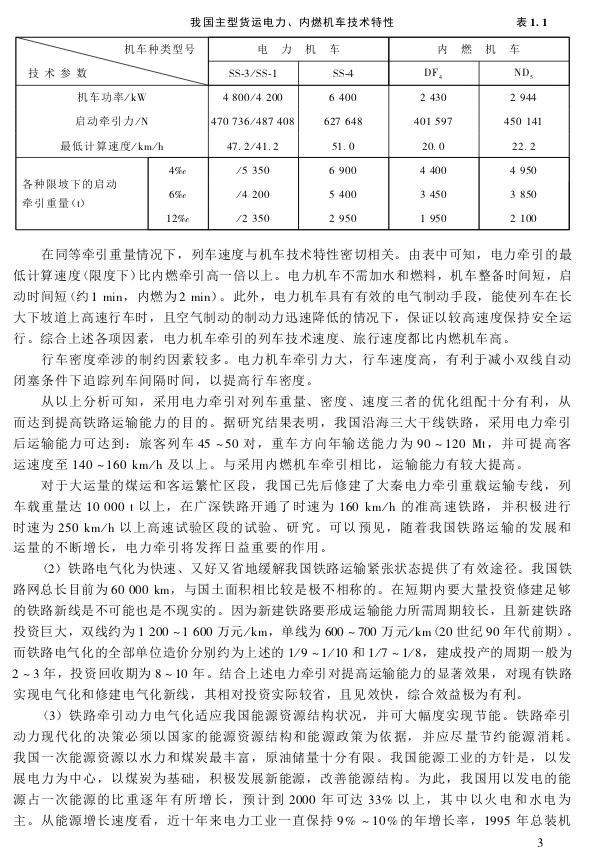table: (14, 35, 569, 230)
